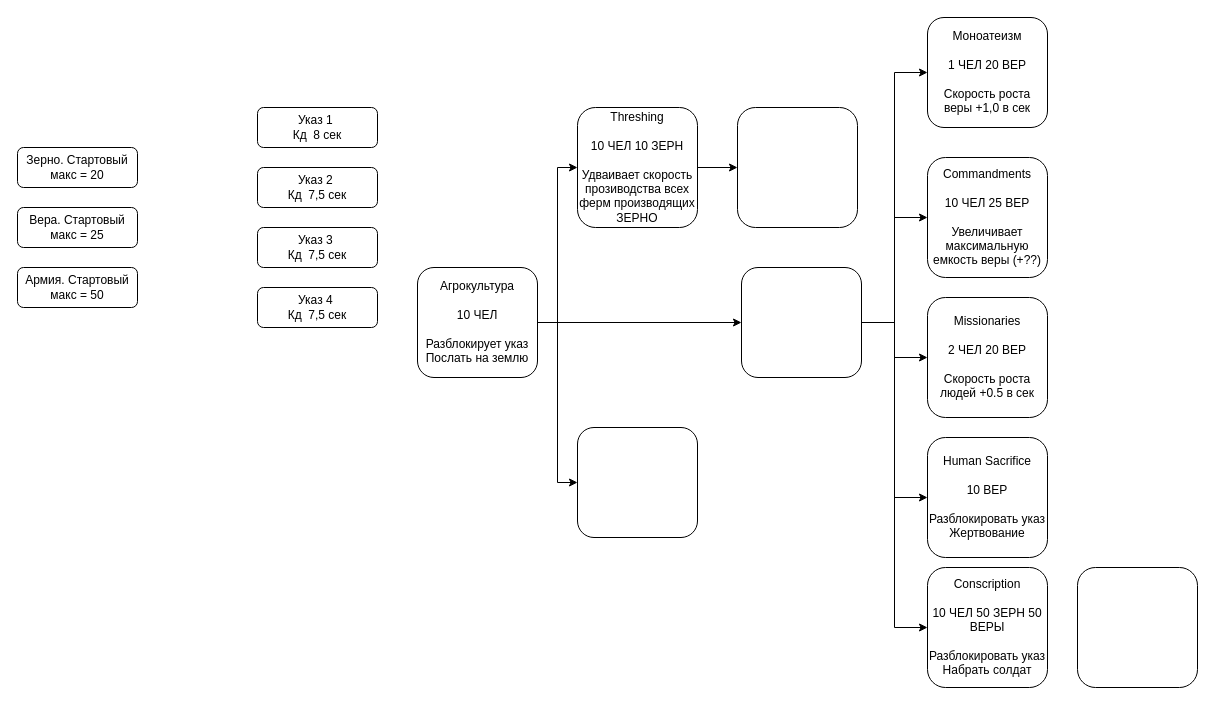
This 1215x705 diagram has some shape labels left out. Each missing label, with the box of its shape:
Military Training 50 ЧЕЛ 25 АРМИИ Скорость роста армии +0.2 в сек: (1076, 566, 1198, 688)
Pottery 10 ЧЕЛ 20 ЗЕРН Увеличивает максимальную емкость зерена (+40): (736, 106, 858, 228)
Меркантилизм 10 ЧЕЛ 20 ЗЕРН Разблокирует указ Торговать: (576, 426, 698, 538)
Религия 15 ЧЕЛ 10 ЗЕРН Разблокирует указ Построить церковь: (740, 266, 862, 378)
